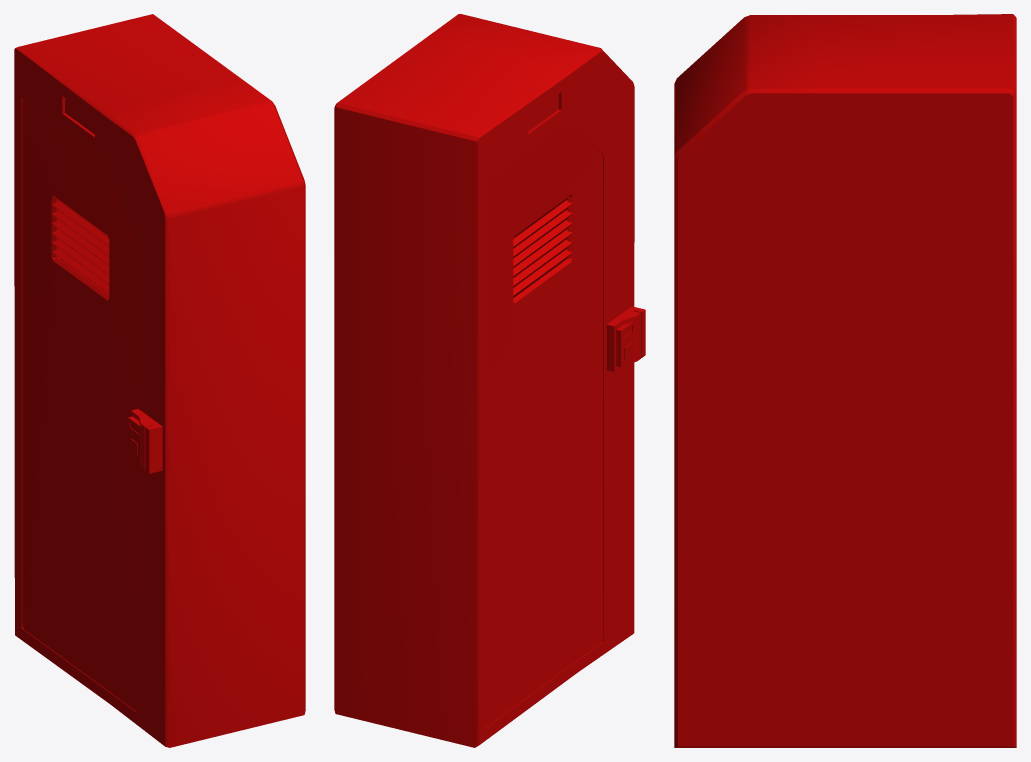
The model's file is casier_pour_unity.FBX.
3 views of the same model, side by side, from view 1: azimuth 30°, elevation 25°; view 2: azimuth 150°, elevation 25°; view 3: azimuth 270°, elevation 25° (orthographic). The views are drawn at different scales.
Visible parts, largest first — view 1: casier_lp001, Object001; view 2: casier_lp001, Object001; view 3: casier_lp001.
Part boxes in pixels (x1,y1,x2,y2): casier_lp001: [14, 14, 305, 747]; Object001: [22, 99, 135, 710]; casier_lp001: [334, 14, 645, 747]; Object001: [485, 119, 602, 726]; casier_lp001: [674, 14, 1016, 747].
Size of the model in its own units: 54.83 by 201 by 94.48.
